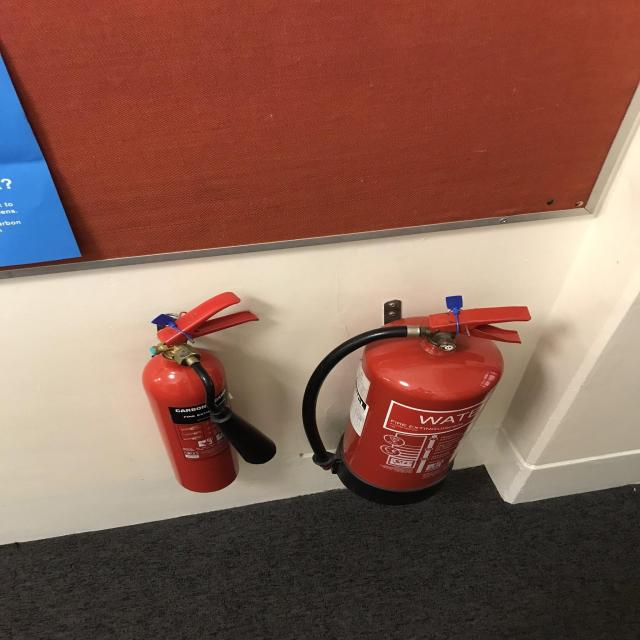fire_extinguisher: (300, 300, 536, 509), (137, 289, 281, 494)
